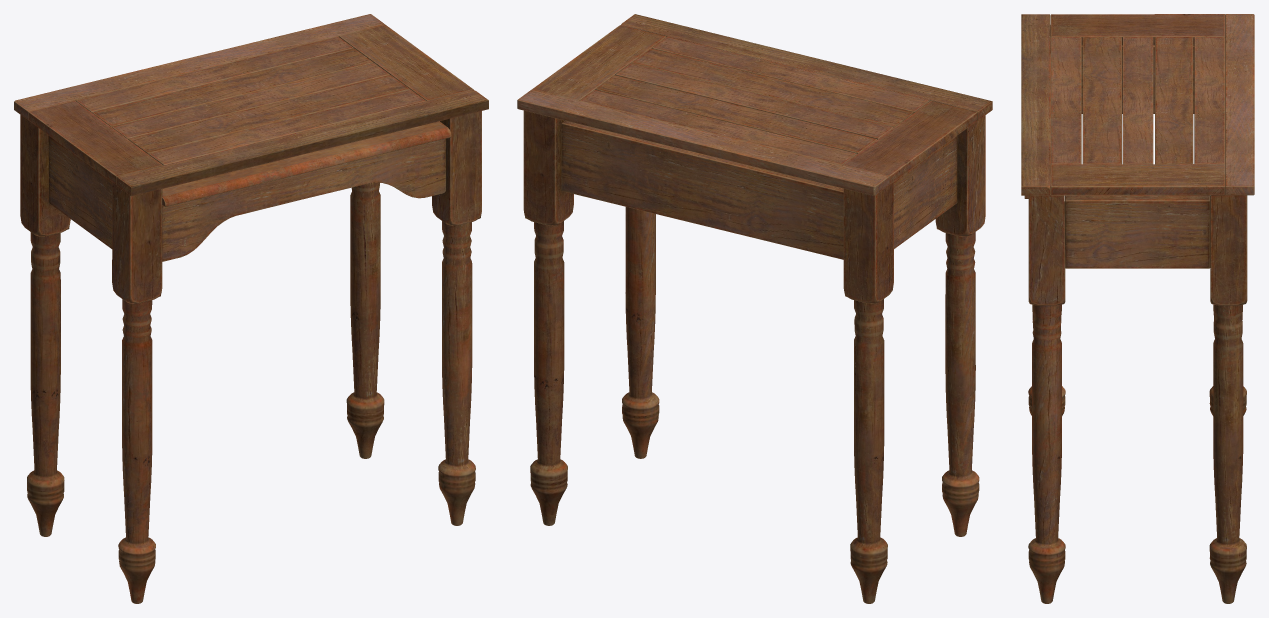
Rendered from SmallWoodenTable1.fbx.
3 renders of one model, left to right at view 1: azimuth 30°, elevation 25°; view 2: azimuth 150°, elevation 25°; view 3: azimuth 270°, elevation 25°, orthographic.
Parts seen in each view (by area): view 1: Antique Rustic Wooden Lamp Table.001; view 2: Antique Rustic Wooden Lamp Table.001; view 3: Antique Rustic Wooden Lamp Table.001.
Boxes of the visible parts, x1=… form: Antique Rustic Wooden Lamp Table.001: x1=14, y1=14, x2=488, y2=603; Antique Rustic Wooden Lamp Table.001: x1=517, y1=14, x2=992, y2=603; Antique Rustic Wooden Lamp Table.001: x1=1021, y1=14, x2=1254, y2=603.
Bounding box in the file's own units: 62.01 × 71.08 × 35.44.
Materials: 1 (1 with a texture image).
